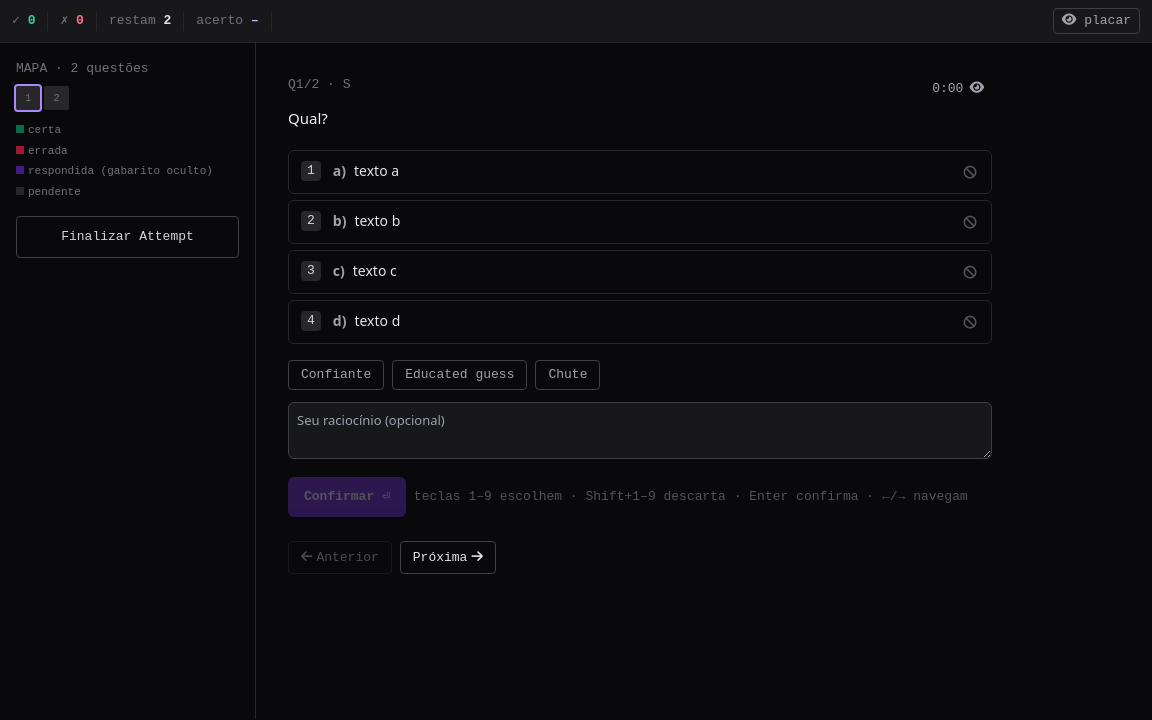
Test case: balão de comentário › clicar no convite reabre o balão com o motivo já escrito
Expected: the text "texto a" is shown, 354,161 -> 399,180
Click the button named "Descartar alternativa b": [970, 222] box 956,208 -> 984,236
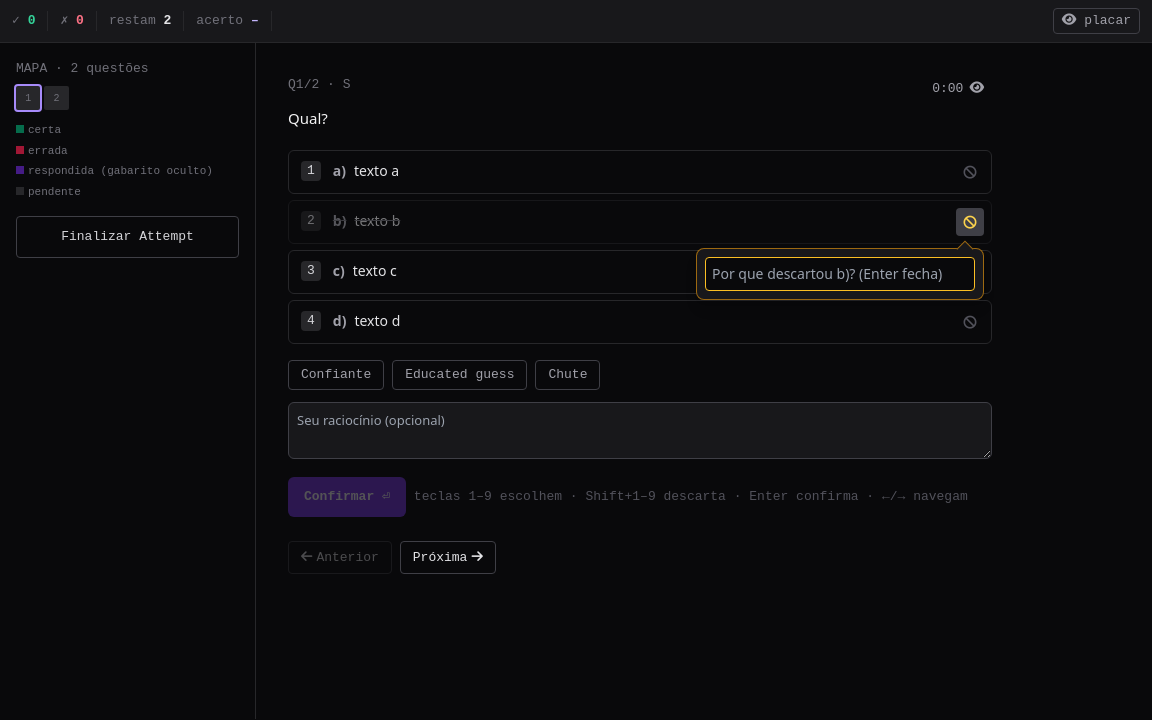
Type keys "motivo{Enter}"
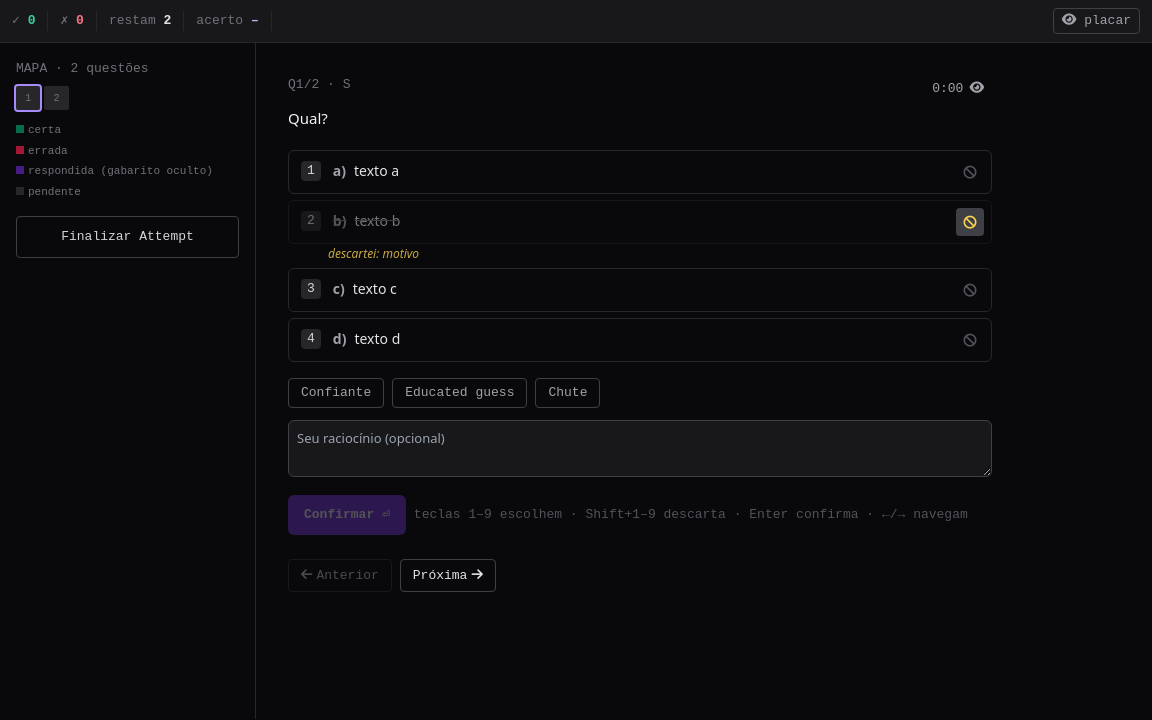
Click the button "descartei: motivo": [374, 254] box 328,246 -> 419,262
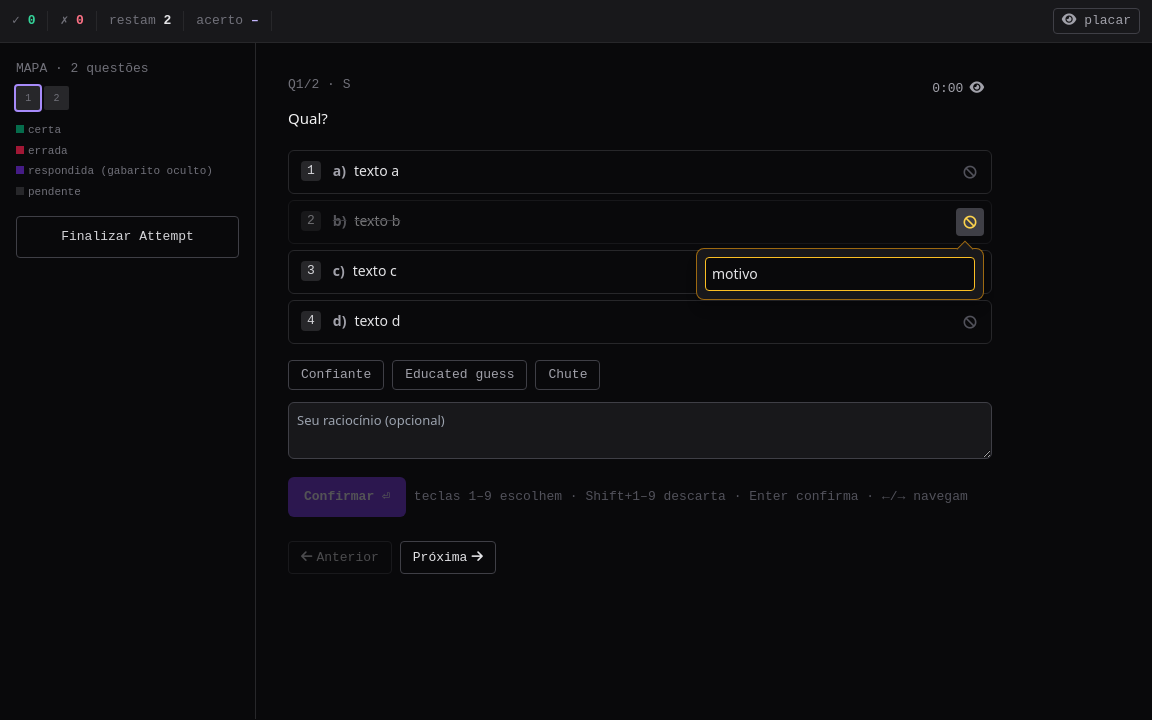
Expected: the field with placeholder "Por que descartou b)? (Enter fecha)" holds "motivo", 705,257 -> 975,291
